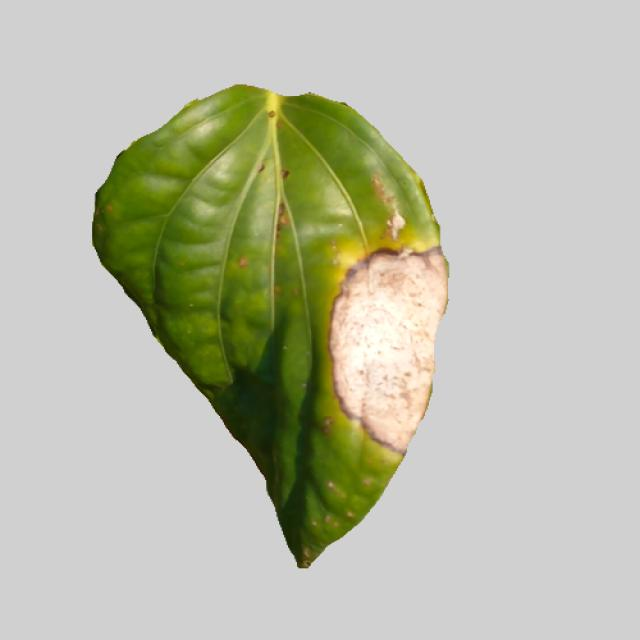leaf-blight: (74, 86, 448, 567)
